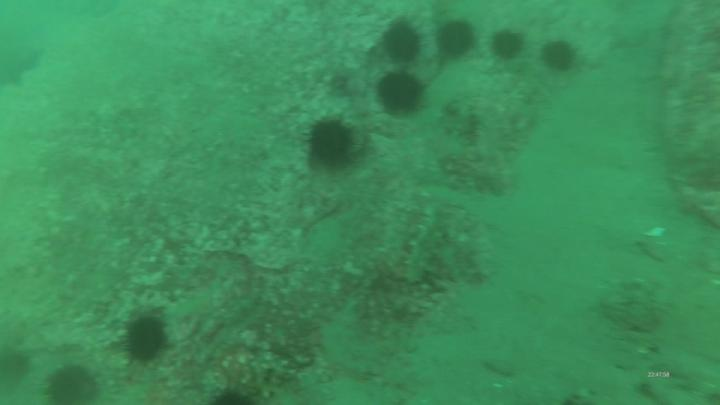echinus: (302, 118, 363, 172), (116, 312, 174, 368), (38, 362, 109, 405), (377, 67, 429, 118), (380, 19, 425, 69), (436, 18, 481, 60), (537, 37, 579, 76), (490, 27, 528, 66), (207, 381, 264, 405)
holothurian: (403, 197, 448, 288), (467, 98, 512, 168)
